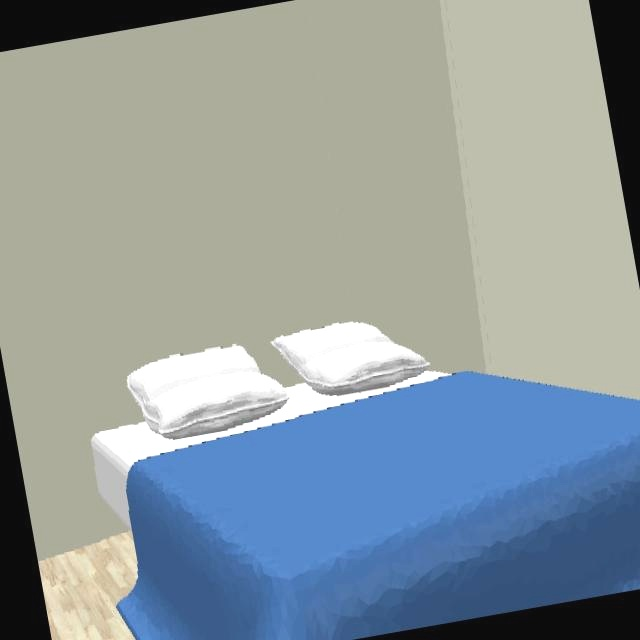bed: (92, 322, 640, 640)
pillow: (126, 344, 291, 444), (270, 320, 431, 396)
